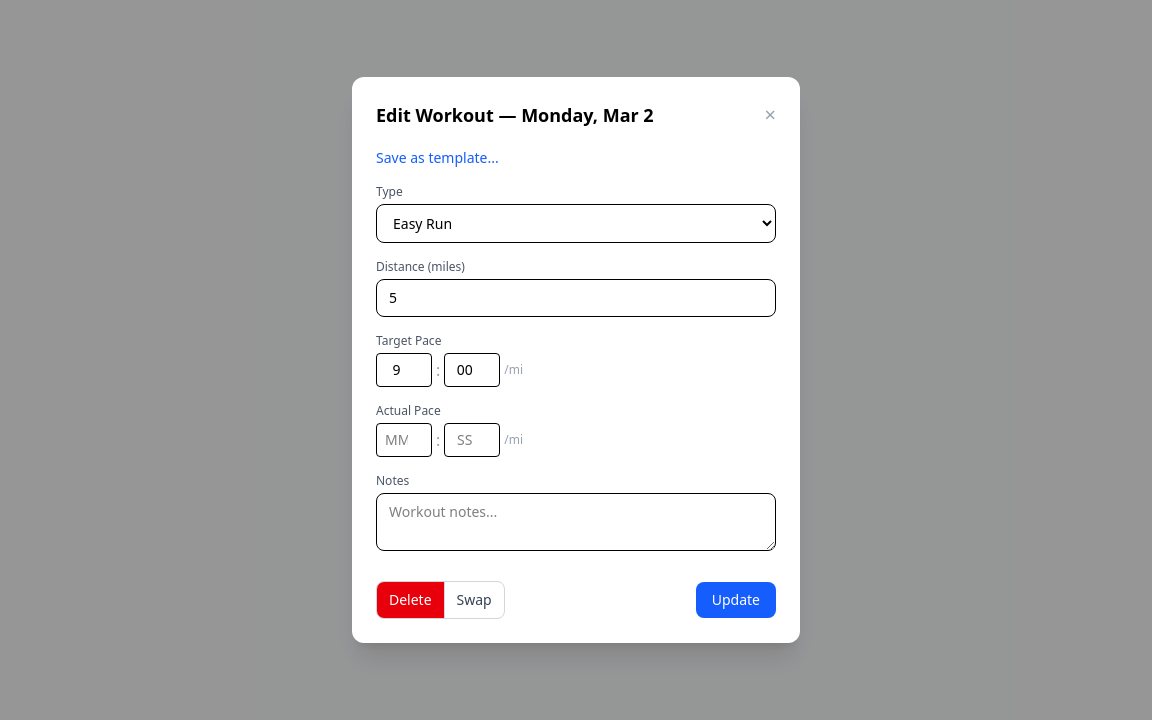
it: WorkoutForm — editing › drops all numeric fields for a rest day
This screenshot has width=1152, height=720.
Select "Rest" in the dropdown at (576, 224), box 376,204 -> 776,243
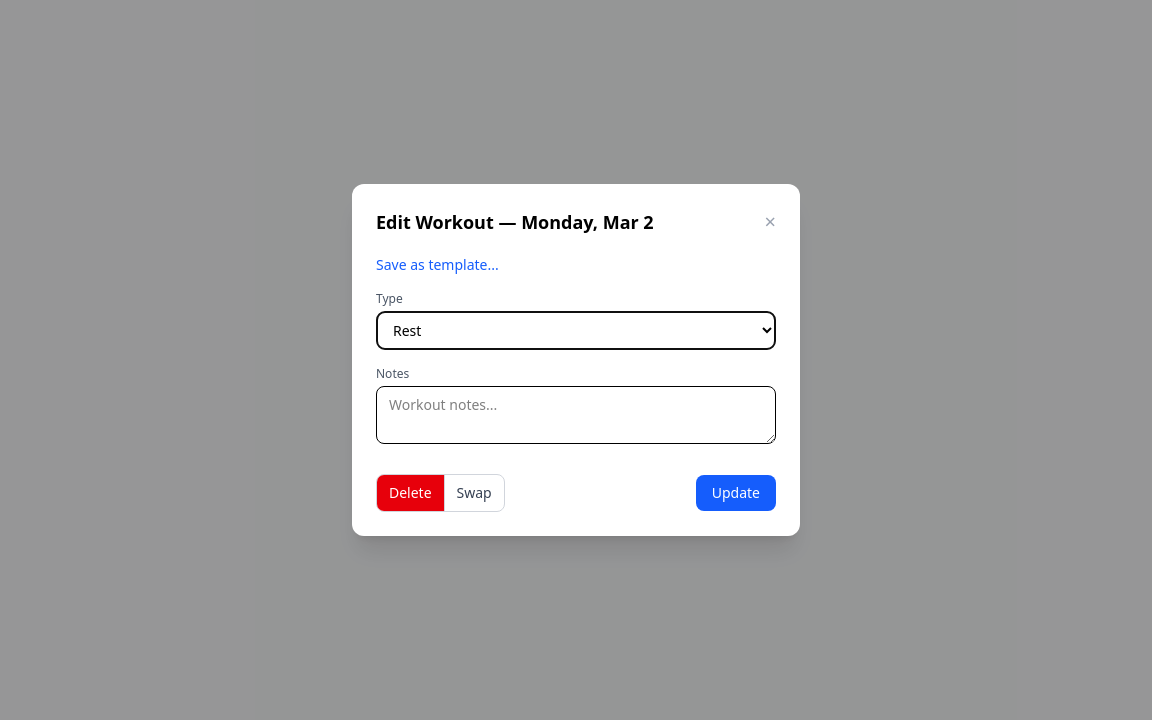
Now the number field with placeholder "MM" is gone
